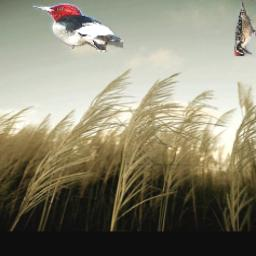Woodpecker: (32, 3, 123, 52), (233, 1, 256, 57)
